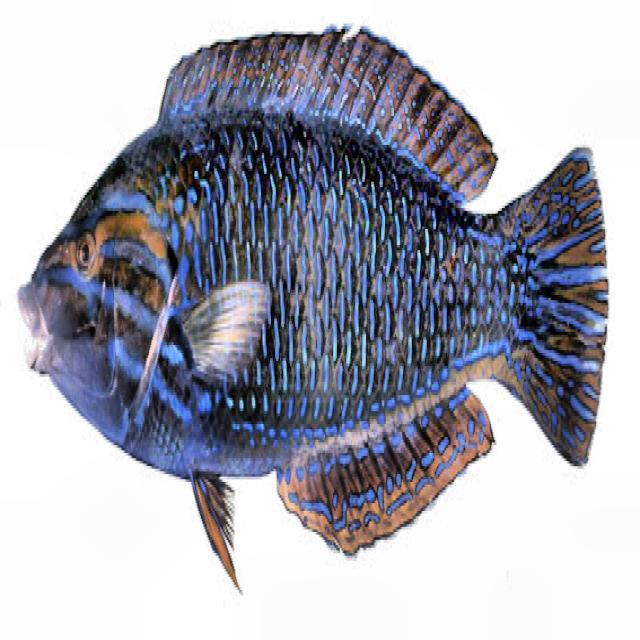fish: (16, 24, 609, 610)
